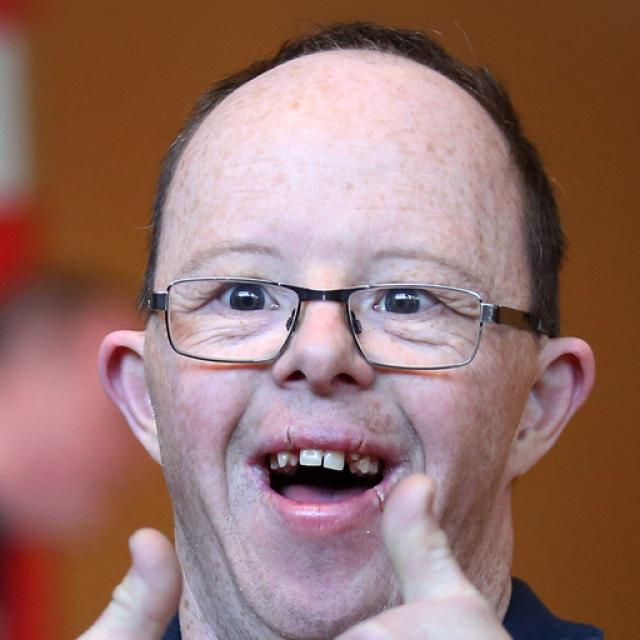Pigmentation: (465, 204, 528, 301), (335, 169, 390, 212), (414, 127, 462, 167), (279, 99, 319, 122)
